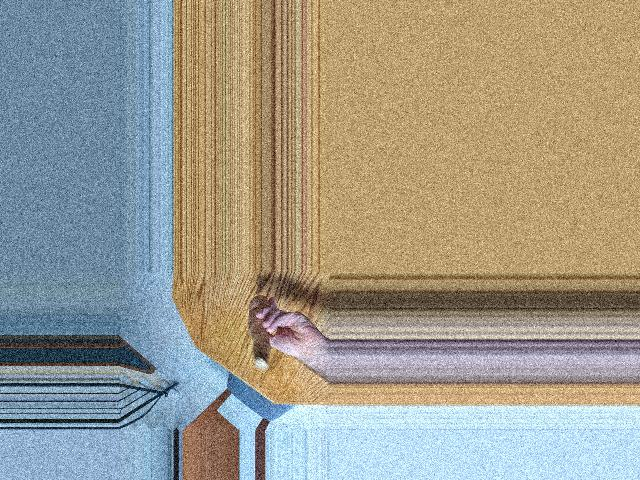sweet_potato: (247, 298, 276, 370)
